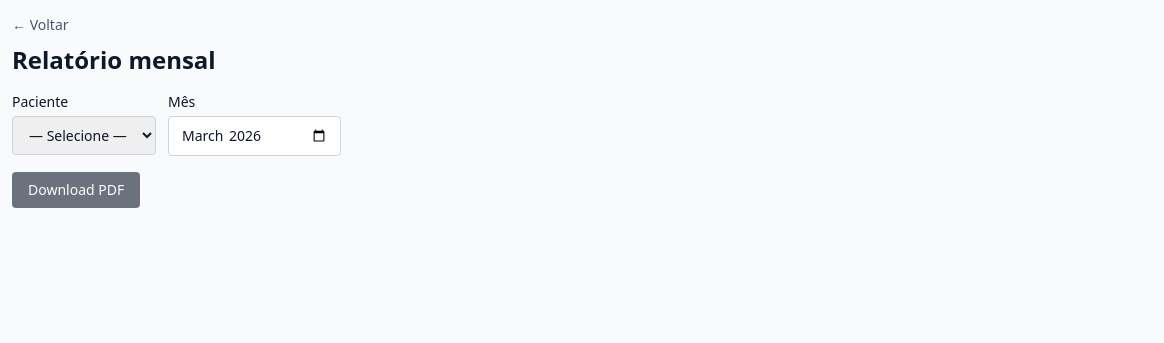
Test: MonthlyReport page › shows the preview totals when a patient and month are selected
Select "Ana Souza" in the dropdown labelled "Paciente" at (84, 136), box [12,116,156,155]
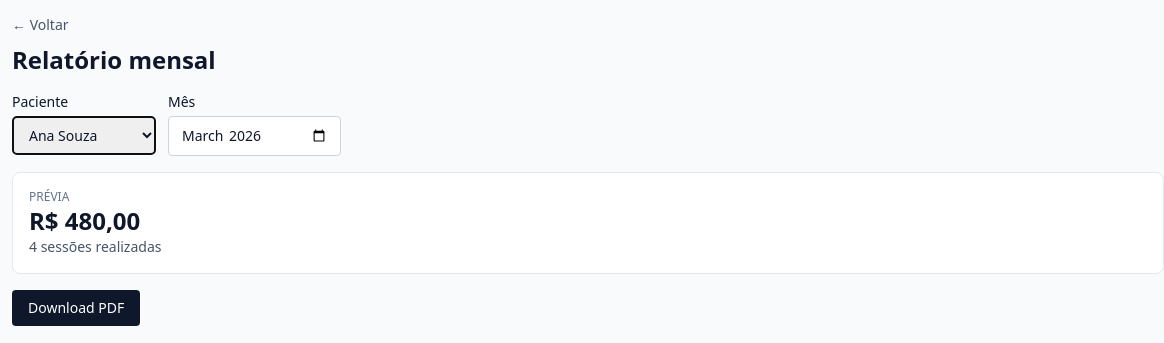
Expected: the text "R$ 480,00" is shown, [29,204,140,237]
Expected: the text "4 sessões realizadas" is shown, [29,237,162,256]
